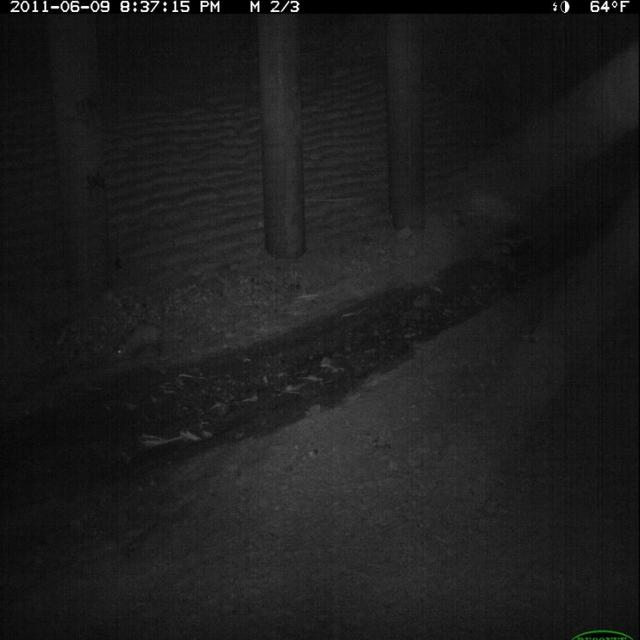opossum: (111, 314, 186, 370)
